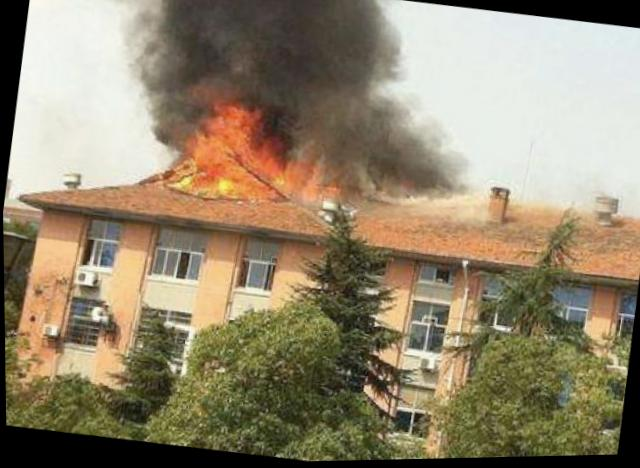fire: (180, 102, 257, 197), (245, 142, 288, 202)
smoke: (120, 0, 449, 130), (296, 106, 488, 198)
